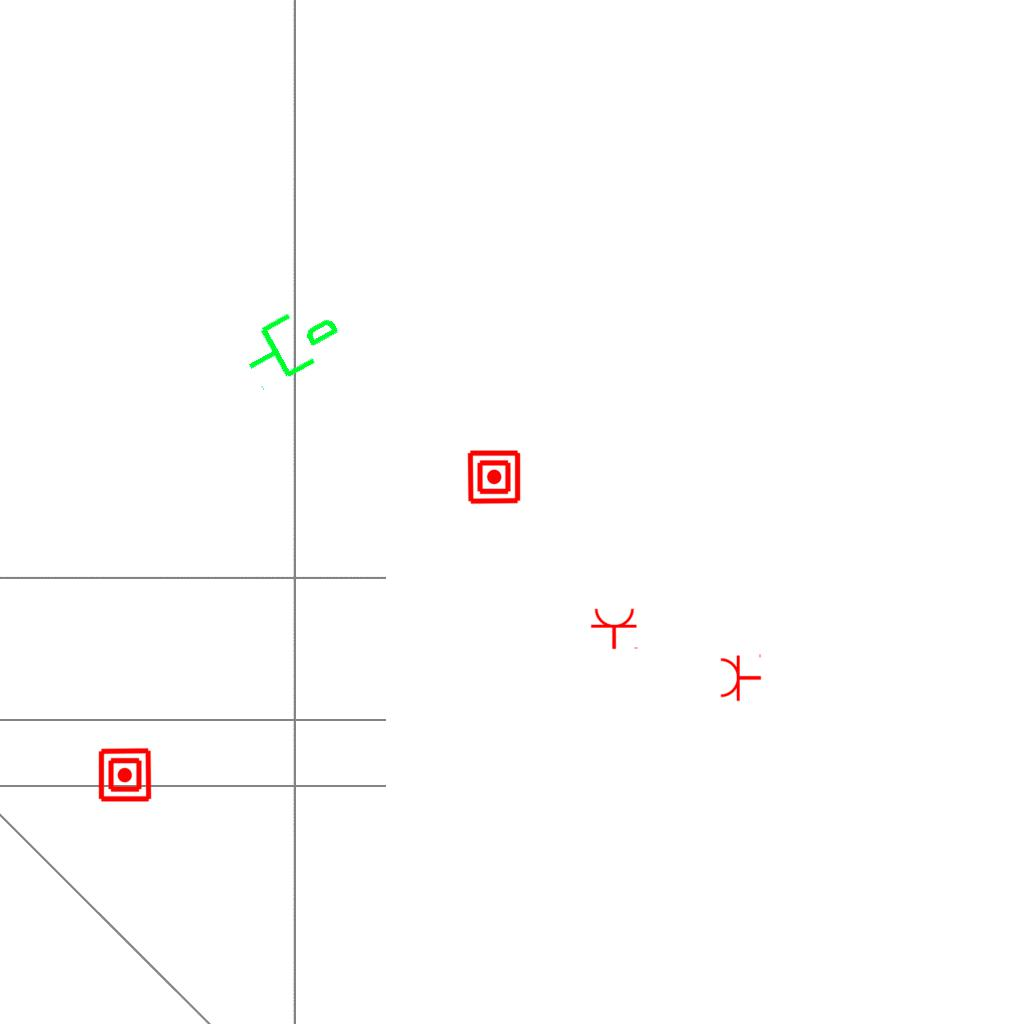Datenanschluss_einfach: (230, 287, 351, 397)
NAM-Nichtautomatischer_Melder: (97, 747, 153, 803), (466, 449, 522, 505)
Schukosteckdose_einfach: (590, 607, 640, 650), (719, 652, 762, 702)
